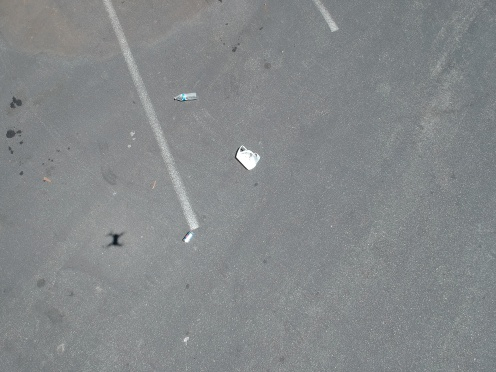bottle: (168, 90, 199, 102)
can: (179, 225, 196, 247)
plastic bag: (231, 143, 263, 171)
